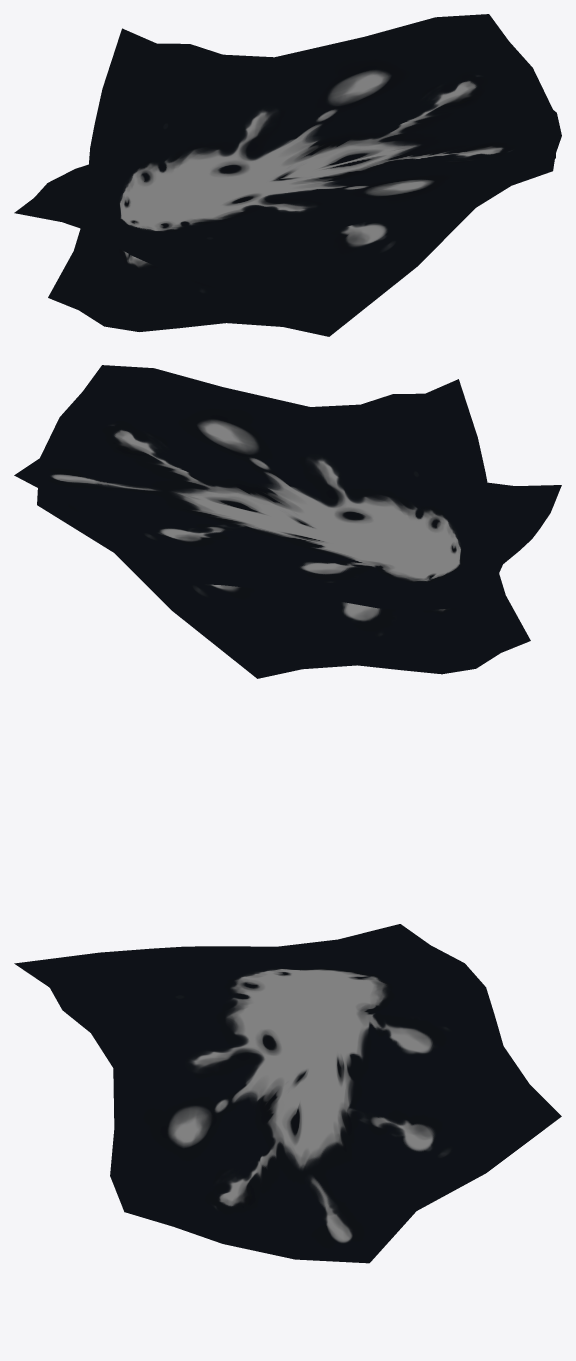
File: effect_models-10.FBX
The picture shows the model from 3 angles, top to bottom: view 1: azimuth 30°, elevation 25°; view 2: azimuth 150°, elevation 25°; view 3: azimuth 270°, elevation 25°; orthographic projection. The views are drawn at different scales.
Parts seen in each view (by area): view 1: Plane002; view 2: Plane002; view 3: Plane002.
Part boxes in pixels (x1,y1,x2,y2): Plane002: (14, 14, 561, 336); Plane002: (14, 365, 561, 678); Plane002: (14, 924, 561, 1263).
Size of the model in its own units: 24.68 by 16.65 by 16.56.
1 material, 1 textured.
